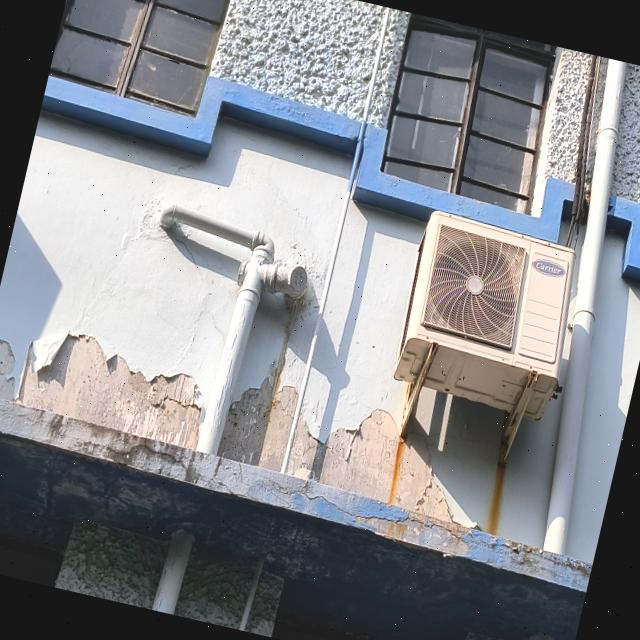Crack: (267, 475, 477, 547), (71, 439, 191, 471)
Paint Peeling: (305, 495, 592, 593), (18, 335, 199, 449), (286, 409, 451, 522), (218, 386, 297, 470), (0, 339, 15, 400)
pollution -moisture induced blackening: (2, 404, 202, 484)
